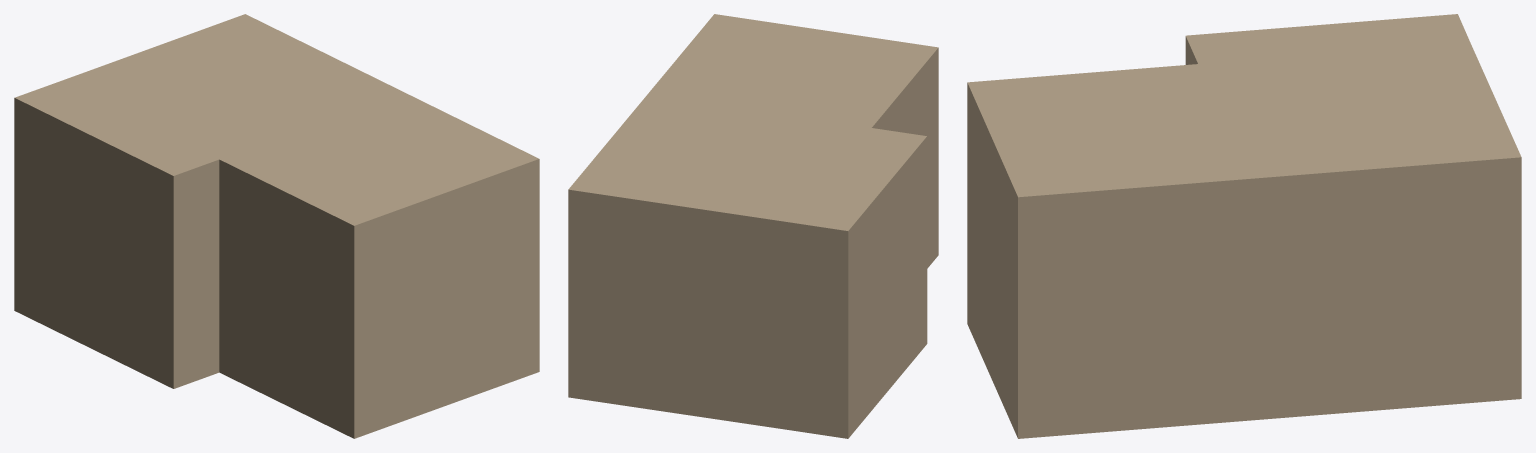
Rendered from bld_101562406.dae.
3 views of the same model, side by side, from view 1: azimuth 30°, elevation 25°; view 2: azimuth 150°, elevation 25°; view 3: azimuth 270°, elevation 25° (orthographic). The views are drawn at different scales.
Parts seen in each view (by area): view 1: bld_101562406; view 2: bld_101562406; view 3: bld_101562406.
Boxes of the visible parts, bbox=[...] form: bld_101562406: bbox=[14, 14, 539, 438]; bld_101562406: bbox=[568, 14, 938, 438]; bld_101562406: bbox=[967, 14, 1521, 438].
Size of the model in its own units: 13.01 by 16.63 by 8.
